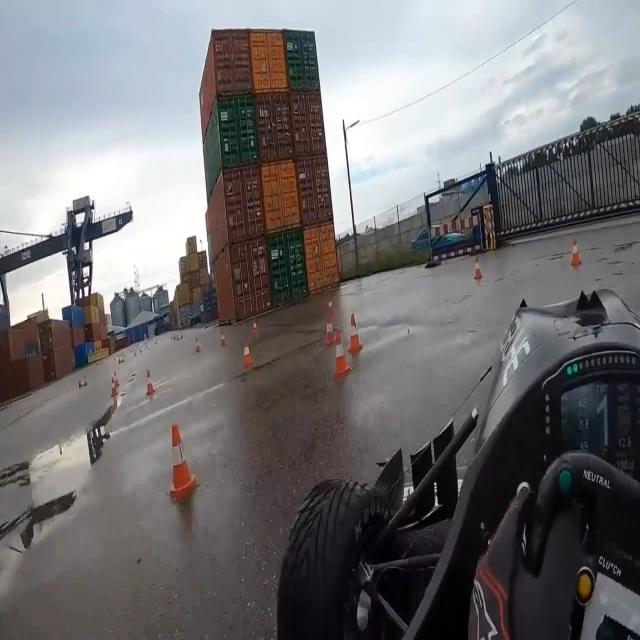Orange cone: (159, 398, 204, 510), (322, 329, 350, 399), (559, 223, 589, 284), (344, 300, 369, 365), (314, 295, 341, 348), (228, 333, 256, 381), (140, 362, 161, 404), (74, 364, 94, 406), (212, 315, 234, 350), (108, 363, 126, 405), (467, 258, 487, 291), (189, 333, 202, 360)
